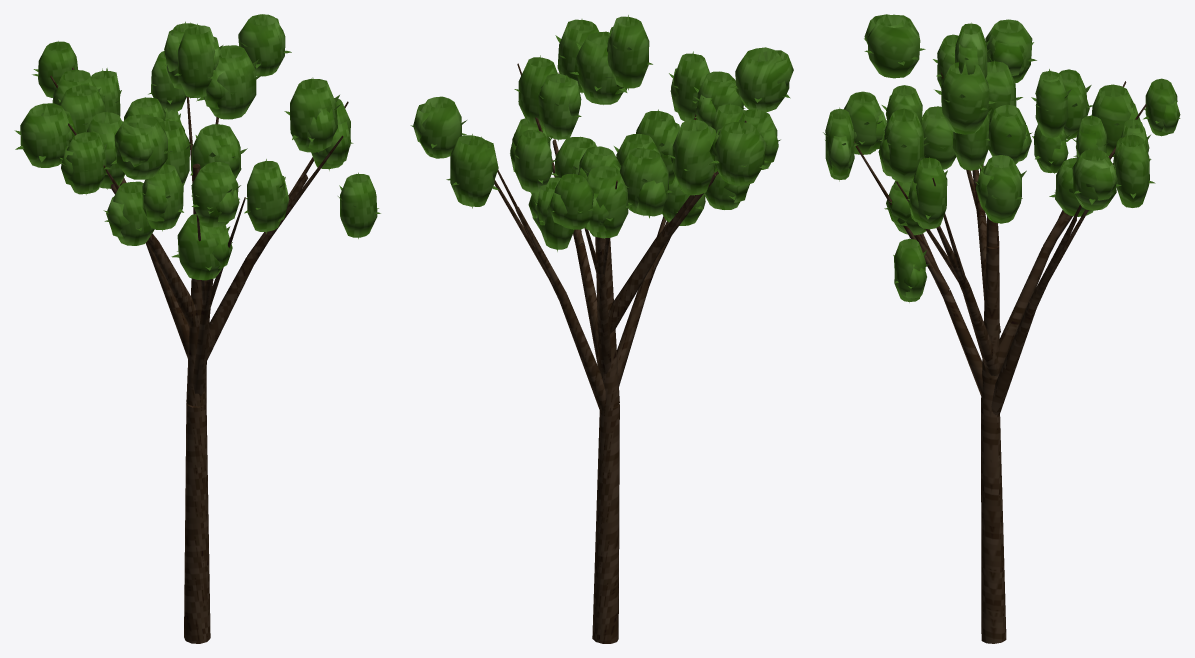
The model's file is tree02-lod0.glb.
3 renders of one model, left to right at view 1: azimuth 30°, elevation 25°; view 2: azimuth 150°, elevation 25°; view 3: azimuth 270°, elevation 25°, orthographic. The views are drawn at different scales.
Visible parts, largest first — view 1: TZ_deciduous_broadleaf_Batch_01_LOD0, TZ_deciduous_broadleaf_Batch_00_LOD0, TZ_deciduous_broadleaf_Batch_02_LOD0; view 2: TZ_deciduous_broadleaf_Batch_01_LOD0, TZ_deciduous_broadleaf_Batch_00_LOD0, TZ_deciduous_broadleaf_Batch_02_LOD0; view 3: TZ_deciduous_broadleaf_Batch_01_LOD0, TZ_deciduous_broadleaf_Batch_00_LOD0, TZ_deciduous_broadleaf_Batch_02_LOD0.
Boxes of the visible parts, box(x1,y1,x2,y2) form: TZ_deciduous_broadleaf_Batch_01_LOD0: box(20, 14, 377, 280); TZ_deciduous_broadleaf_Batch_00_LOD0: box(50, 67, 348, 643); TZ_deciduous_broadleaf_Batch_02_LOD0: box(14, 42, 380, 270); TZ_deciduous_broadleaf_Batch_01_LOD0: box(413, 15, 793, 251); TZ_deciduous_broadleaf_Batch_00_LOD0: box(494, 63, 746, 643); TZ_deciduous_broadleaf_Batch_02_LOD0: box(410, 32, 790, 222); TZ_deciduous_broadleaf_Batch_01_LOD0: box(825, 14, 1180, 302); TZ_deciduous_broadleaf_Batch_00_LOD0: box(854, 72, 1146, 643); TZ_deciduous_broadleaf_Batch_02_LOD0: box(823, 38, 1180, 288).
Size of the model in its own units: 4.27 by 8.1 by 4.3.
Materials: 3 (3 with a texture image).
